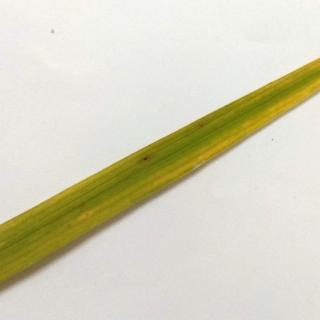bercak-Cokelat: (138, 152, 152, 166)
